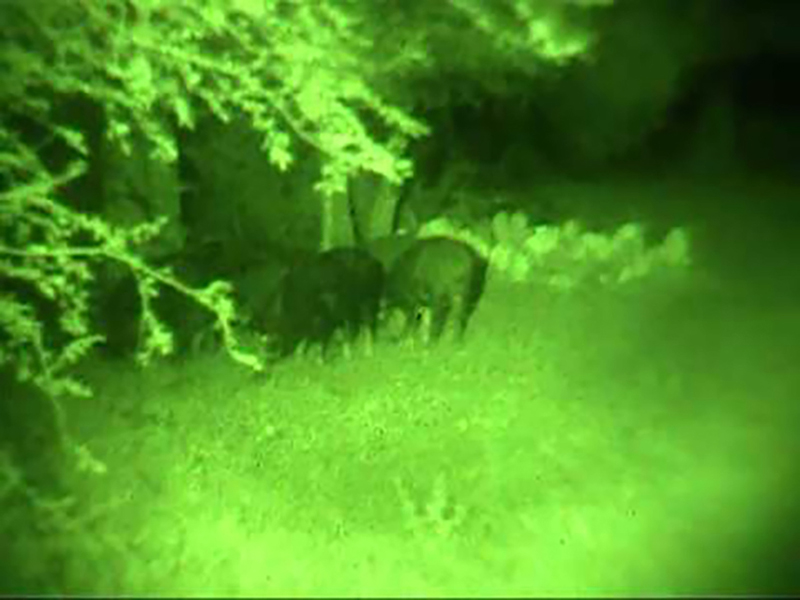cinghiale: (256, 246, 383, 366), (381, 233, 492, 331)
